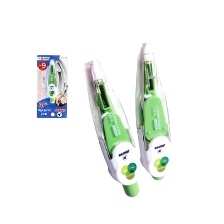book: (35, 52, 70, 120)
correction_fluid: (82, 57, 144, 202), (133, 41, 174, 183), (45, 57, 60, 105)
